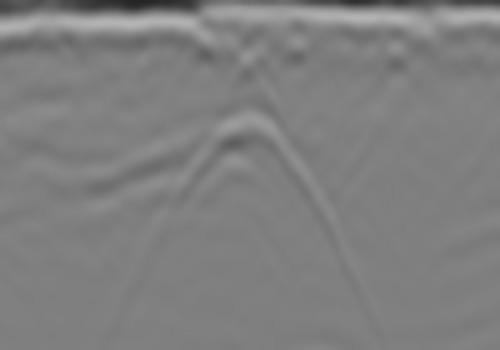hyperbola: (167, 105, 336, 250)
